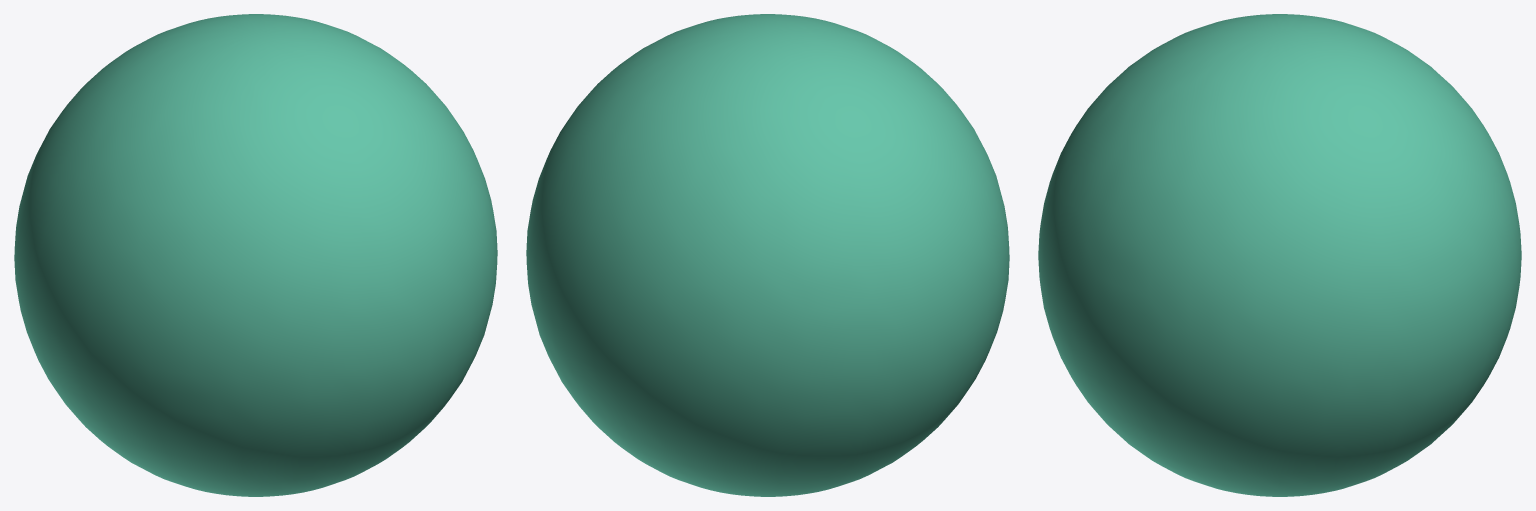
Rendered from UnstableStar_compressed.glb.
3 views of the same model, side by side, from view 1: azimuth 30°, elevation 25°; view 2: azimuth 150°, elevation 25°; view 3: azimuth 270°, elevation 25° (orthographic).
Parts seen in each view (by area): view 1: UnstableStarref; view 2: UnstableStarref; view 3: UnstableStarref.
Part boxes in pixels (x1,y1,x2,y2): UnstableStarref: [14, 14, 497, 496]; UnstableStarref: [526, 14, 1009, 496]; UnstableStarref: [1038, 14, 1521, 496].
Bounding box in the file's own units: 20.2 × 20.2 × 20.2.
